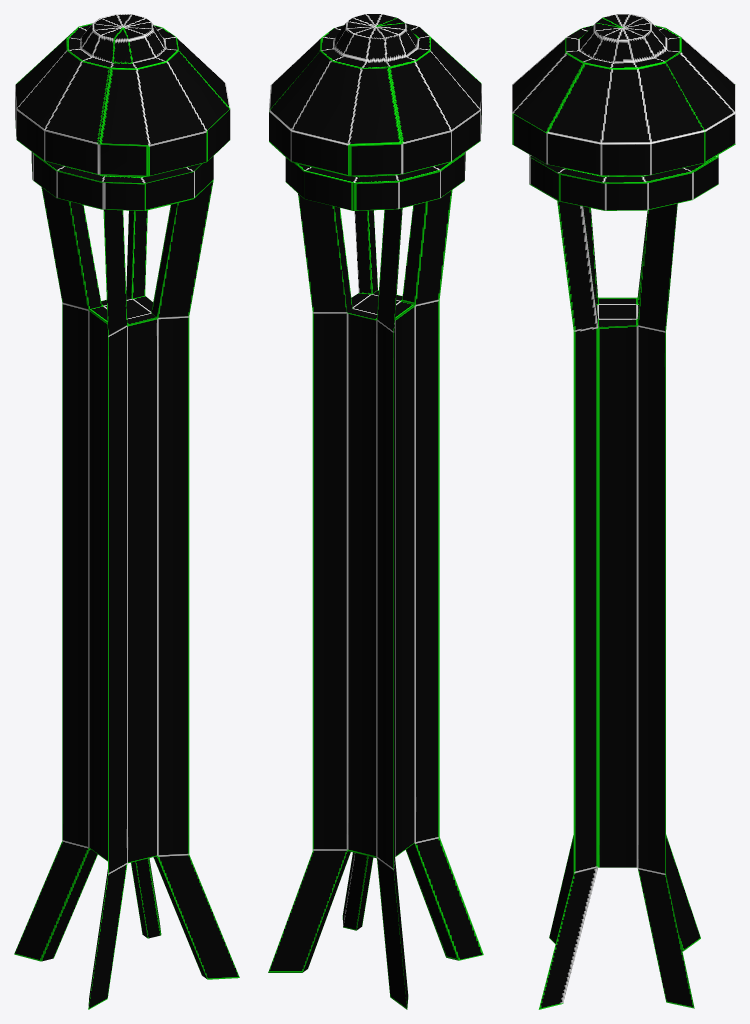
Rendered from Iffel_Tower.fbx.
The picture shows the model from 3 angles, left to right: view 1: azimuth 30°, elevation 25°; view 2: azimuth 150°, elevation 25°; view 3: azimuth 270°, elevation 25°; orthographic projection.
Visible parts, largest first — view 1: Iffel_Tower; view 2: Iffel_Tower; view 3: Iffel_Tower.
Part boxes in pixels (x1,y1,x2,y2): Iffel_Tower: (14, 14, 239, 1009); Iffel_Tower: (268, 14, 483, 1009); Iffel_Tower: (512, 14, 735, 1009).
Size of what is drawn, in the model's own units: 0.9446 by 4.61 by 0.9874.
Materials: 1 (1 with a texture image).
